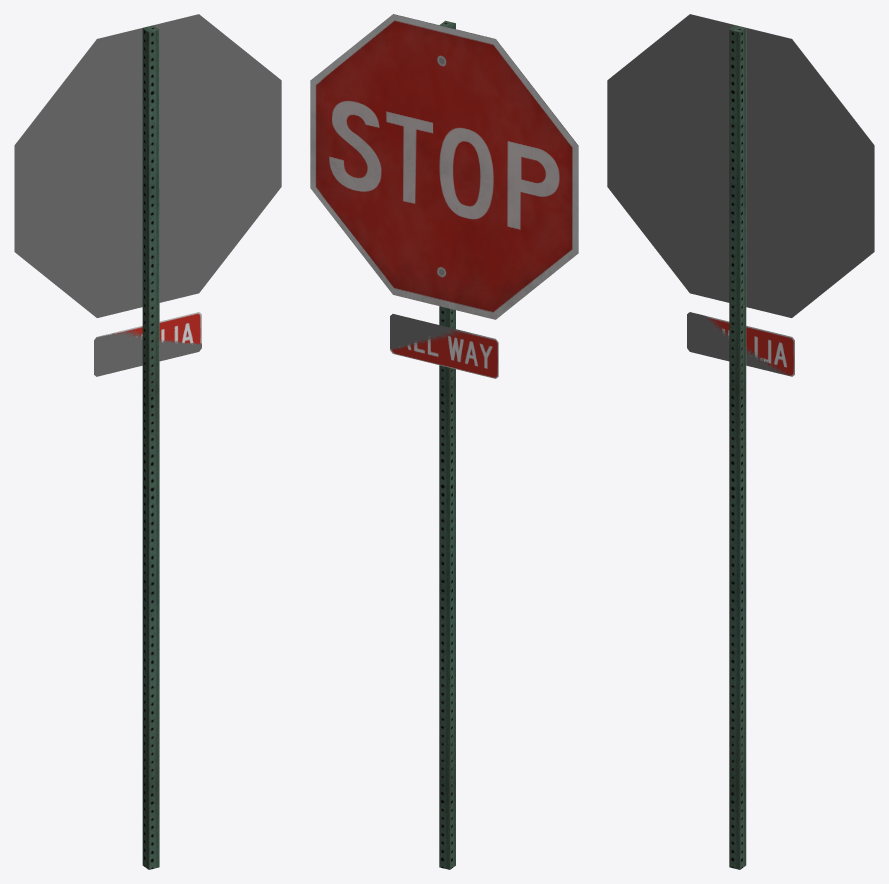
Rendered from GSDSignStopAllway.FBX.
The picture shows the model from 3 angles, left to right: view 1: azimuth 30°, elevation 25°; view 2: azimuth 150°, elevation 25°; view 3: azimuth 330°, elevation 25°; orthographic projection.
Visible parts, largest first — view 1: GSDSignStopAllway; view 2: GSDSignStopAllway; view 3: GSDSignStopAllway.
Boxes of the visible parts, box(x1,y1,x2,y2) form: GSDSignStopAllway: box(14, 14, 281, 869); GSDSignStopAllway: box(310, 14, 578, 869); GSDSignStopAllway: box(607, 14, 874, 869).
Size of the model in its own units: 0.75 by 2.25 by 0.031.
